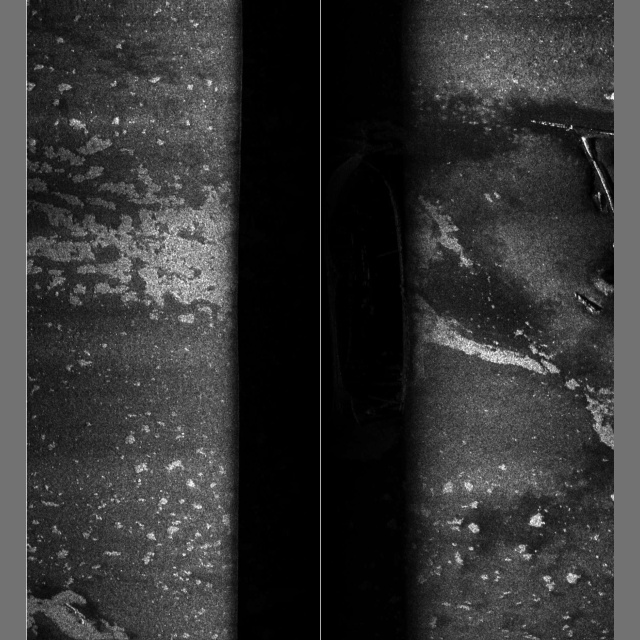Shipwreck: (321, 120, 614, 428)
